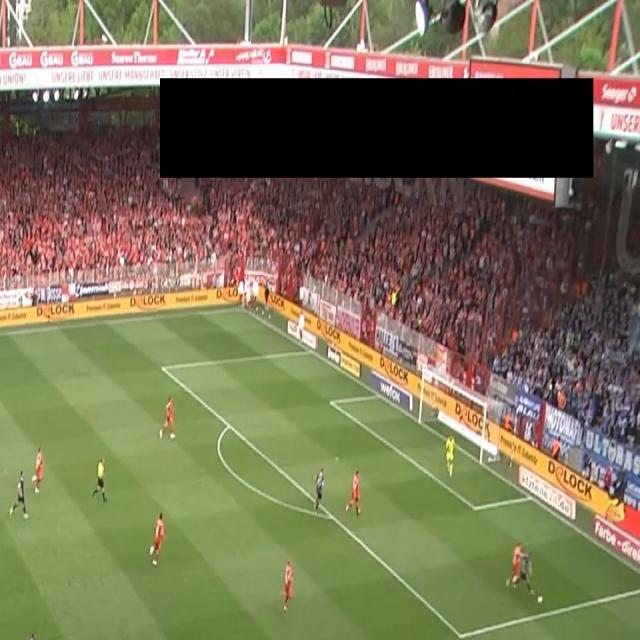ball: (537, 594, 544, 605)
